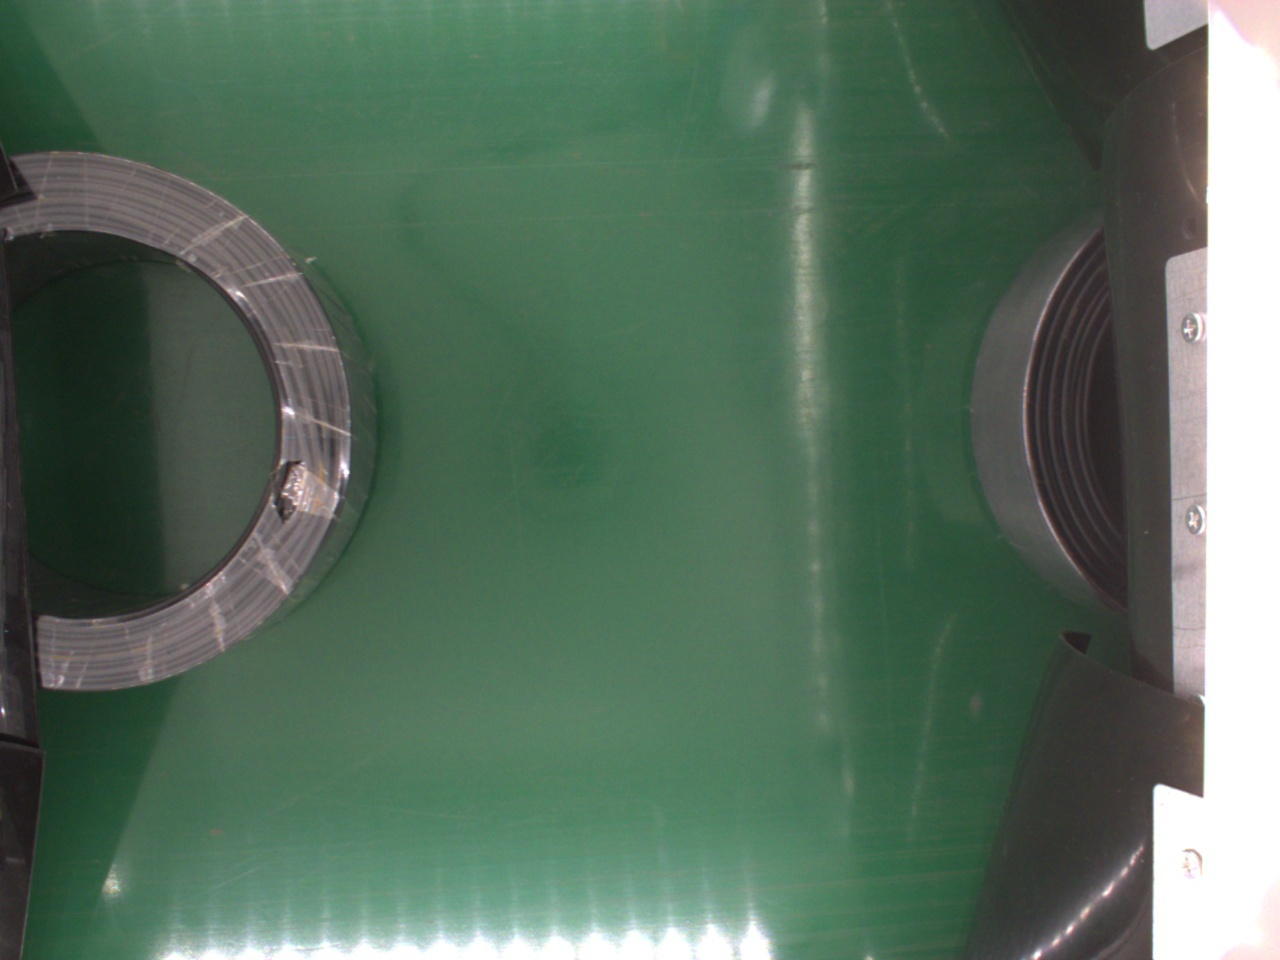black: (13, 146, 371, 696), (968, 210, 1134, 628)
